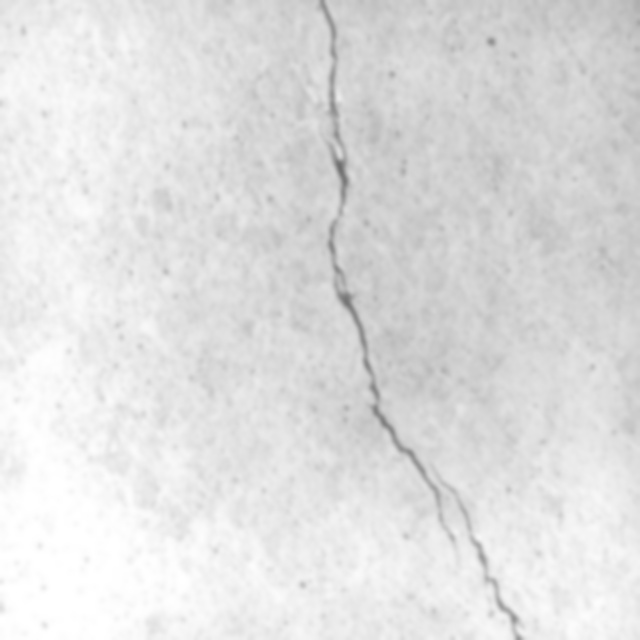SurfaceCrack: (285, 1, 545, 640)
